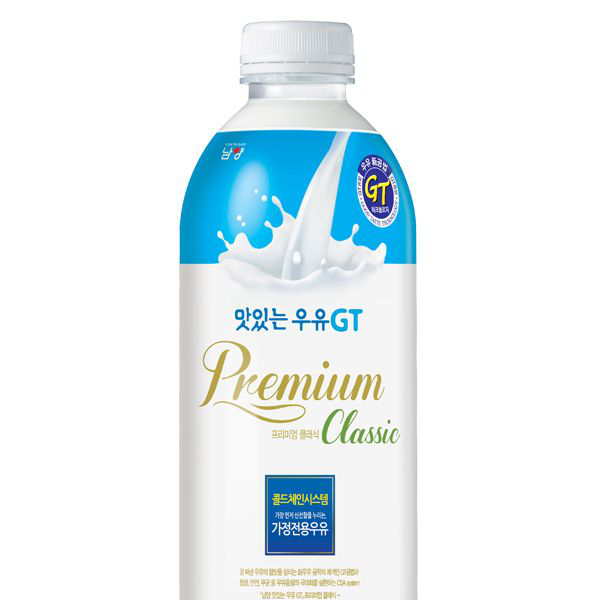milk: (178, 20, 418, 600)
